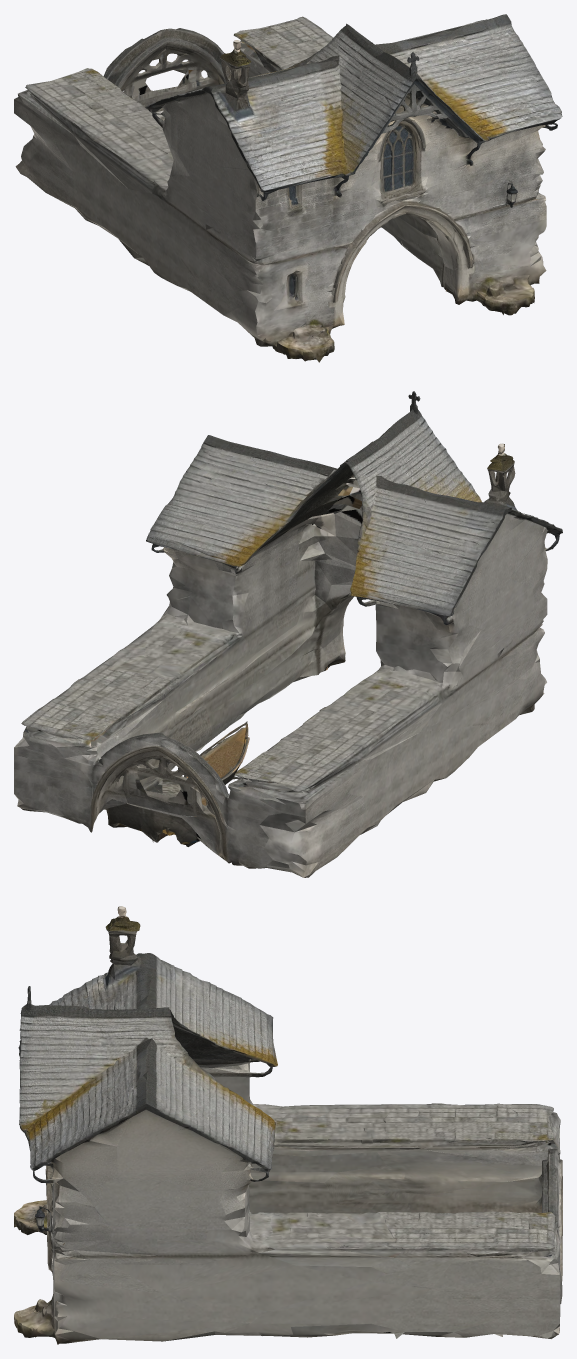
The model's file is boathouse.glb.
The picture shows the model from 3 angles, top to bottom: view 1: azimuth 30°, elevation 25°; view 2: azimuth 150°, elevation 25°; view 3: azimuth 270°, elevation 25°; orthographic projection. The views are drawn at different scales.
Parts seen in each view (by area): view 1: output_unwrapped; view 2: output_unwrapped; view 3: output_unwrapped.
Boxes of the visible parts, x1=… form: output_unwrapped: x1=14, y1=14, x2=562, y2=362; output_unwrapped: x1=14, y1=391, x2=562, y2=877; output_unwrapped: x1=14, y1=906, x2=562, y2=1344.
Size of the model in its own units: 12.12 by 11.03 by 18.
Materials: 1 (1 with a texture image).
